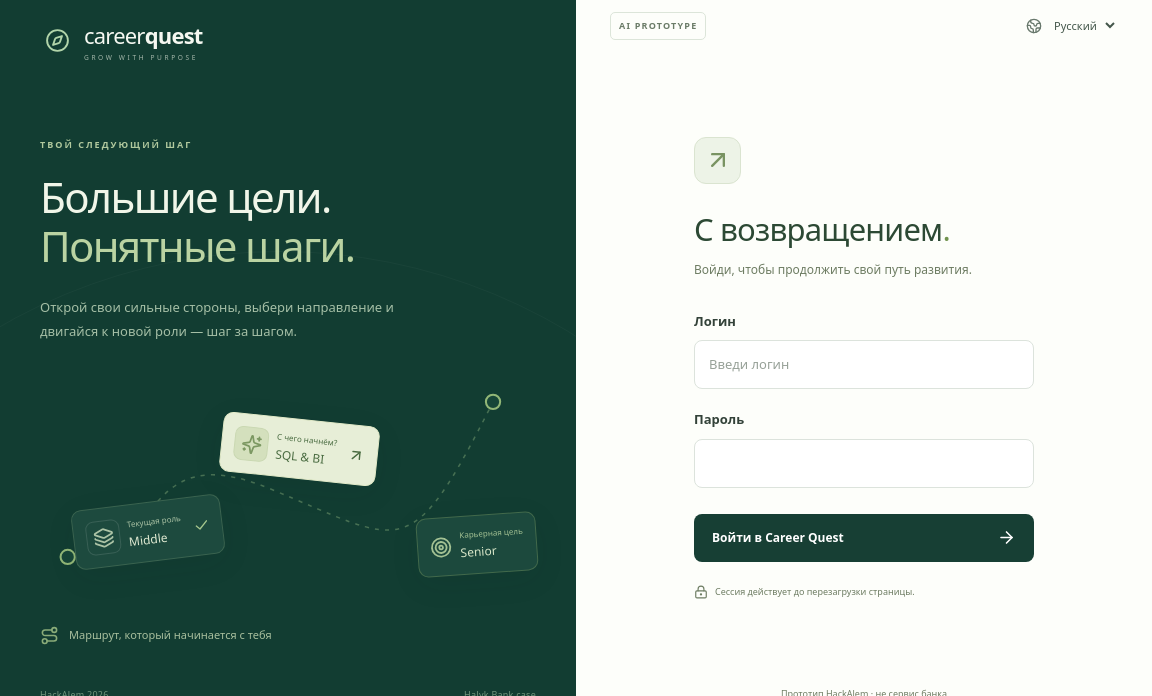
user journeys against the HTTP boundary › renders empty recommendations with their reason
Type "employee" into the field labelled "Логин". click: (864, 365)
box: 694,340 -> 1034,389
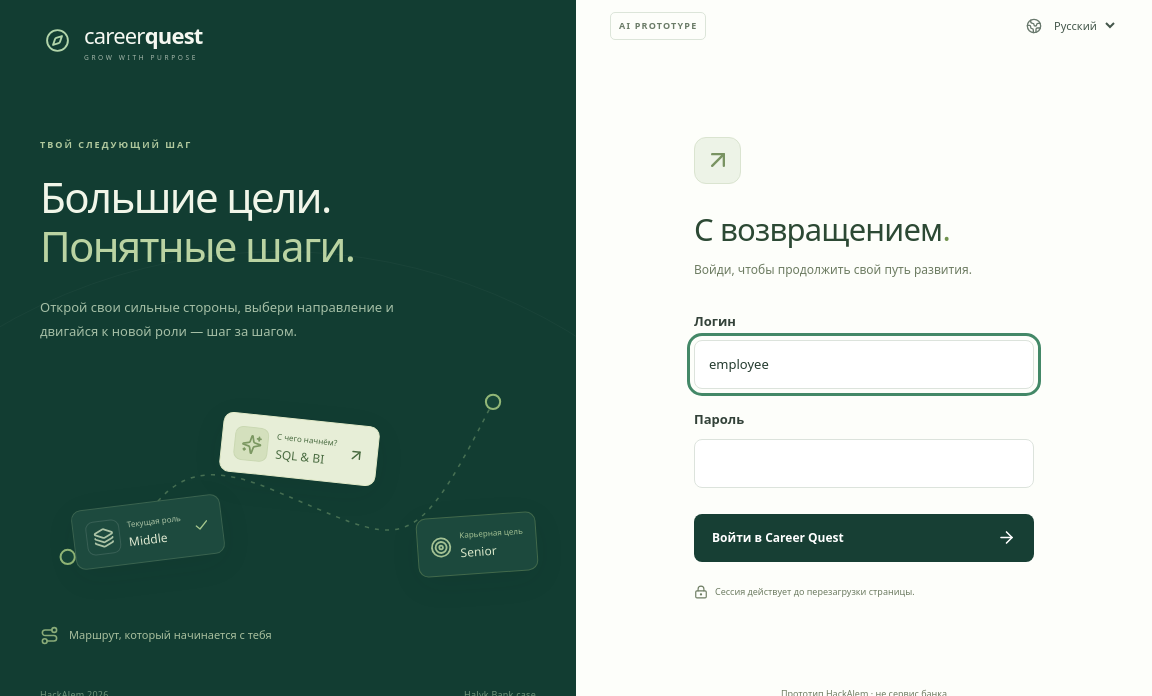
Type "demo123" into the password field labelled "Пароль". click: (864, 463)
box: 694,439 -> 1034,488
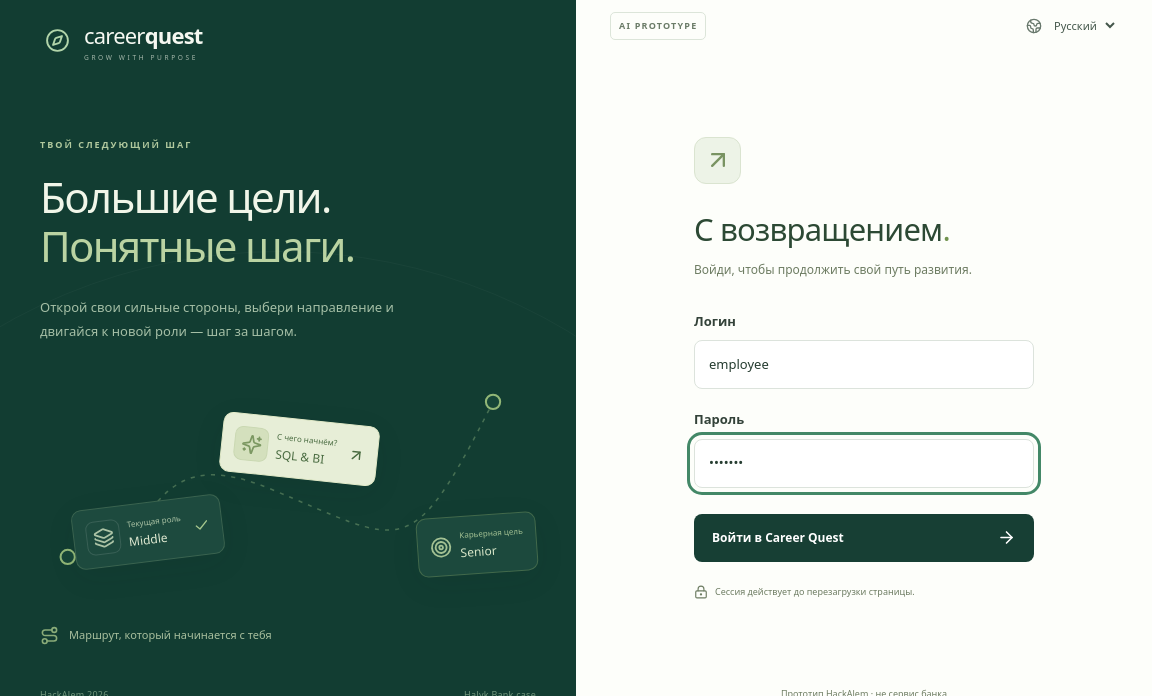
Click the button "Войти в Career Quest". click: click(778, 537)
box: 694,514 -> 1034,562
(page scrolled)
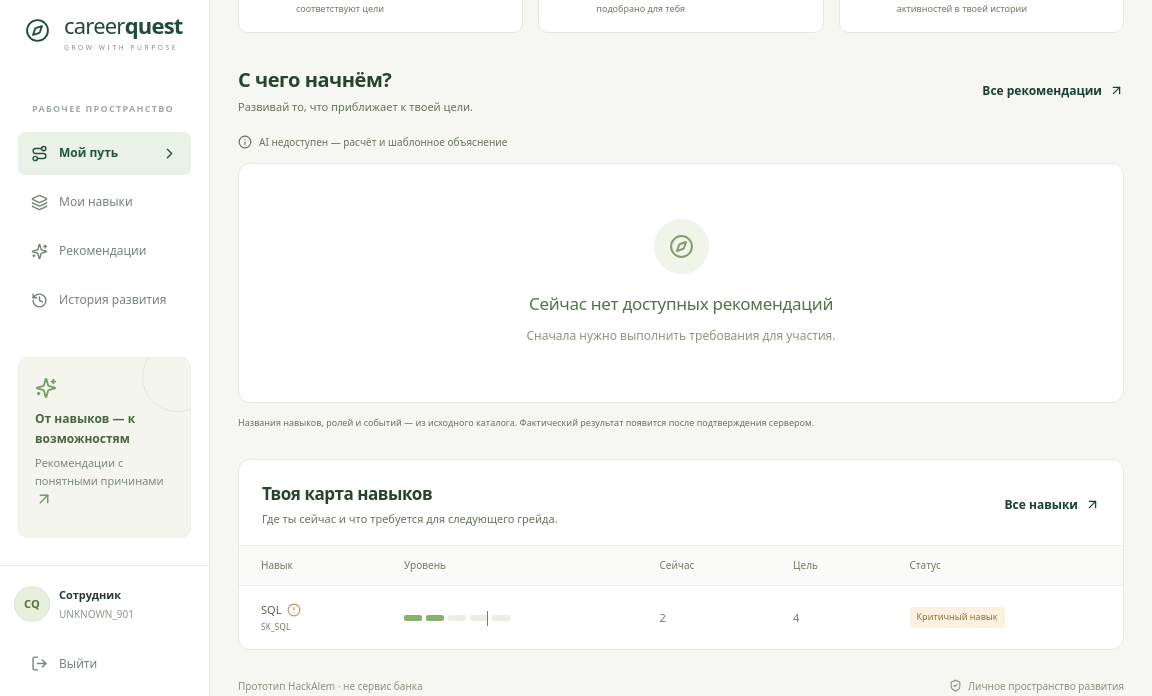
Now the text "Сначала нужно выполнить требования для участия." is shown, box 526,327 -> 836,344
